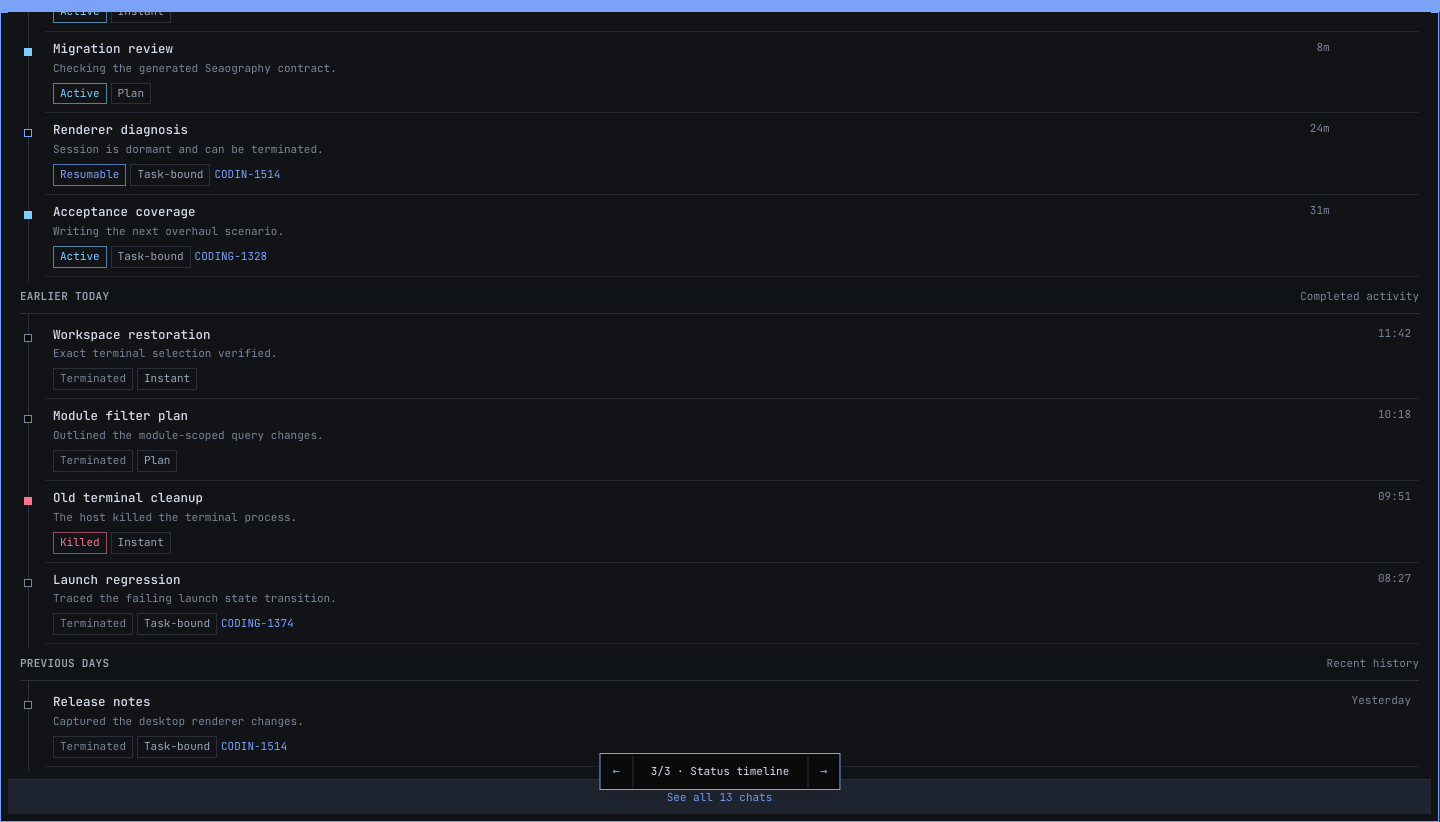
Test: overhaul acceptance - Conversations design prototype › [overhaul-242] caps the timeline design at ten chats
(page scrolled)
What coordinates should you click on to do the following:
click the button "See all 13 chats"
I would click on:
 (720, 798)
Its box is [667,790,772,806].
(page scrolled)
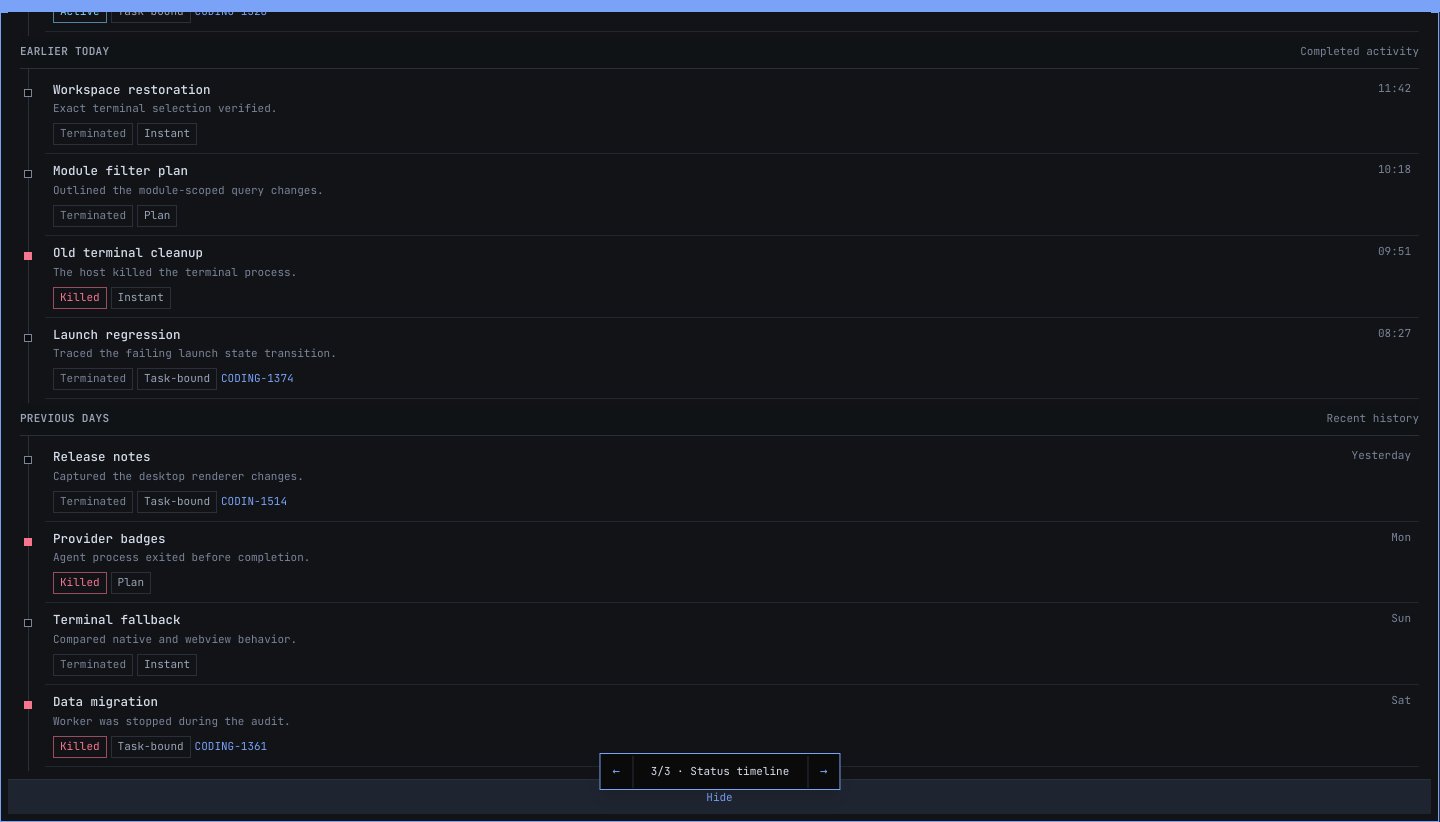
What coordinates should you click on to do the following:
click the button "Hide"
I would click on:
 (720, 798)
Its box is [706,790,733,806].
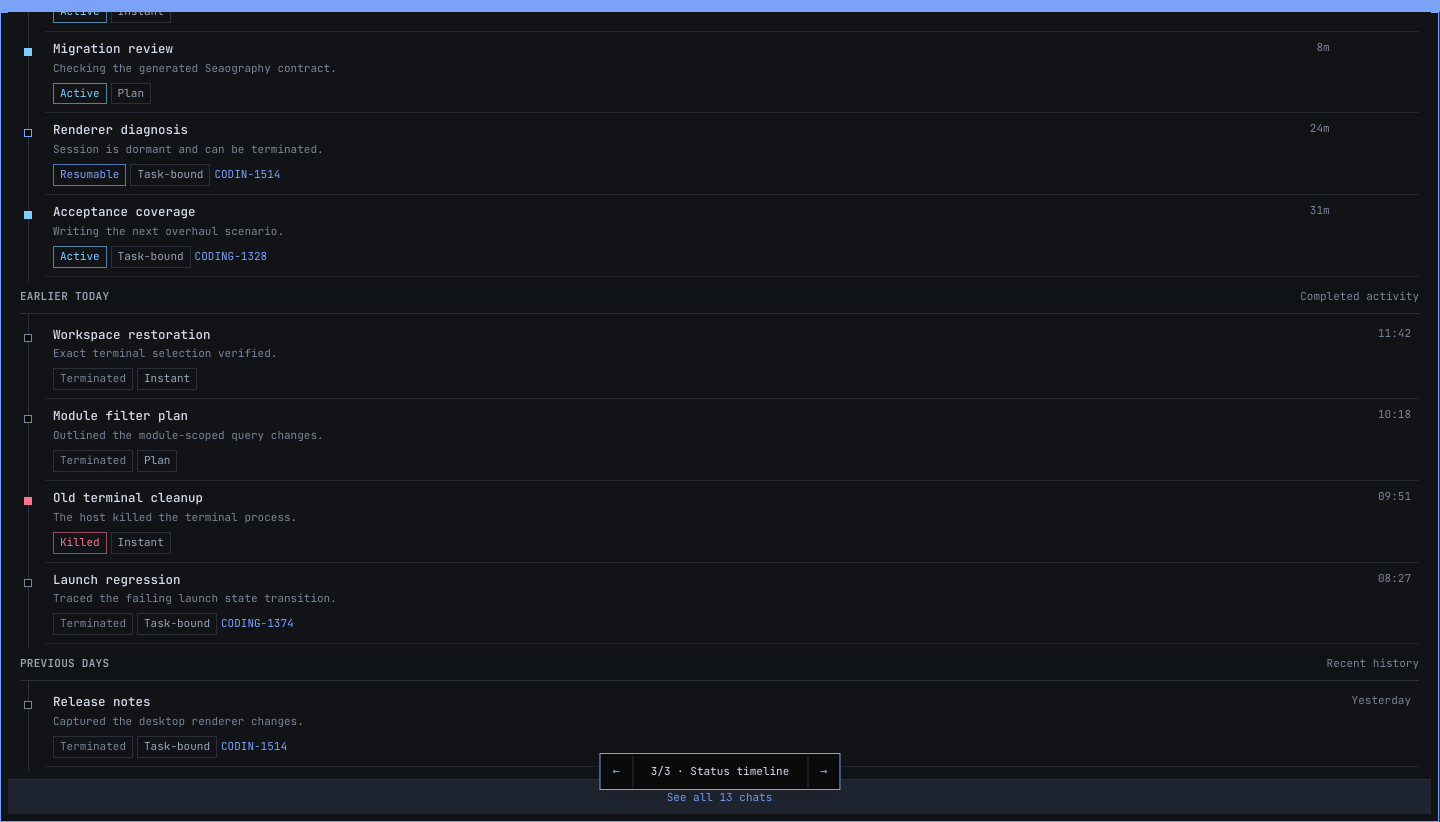
Expected: the button "See all 13 chats" is shown, [667,790,772,806]
